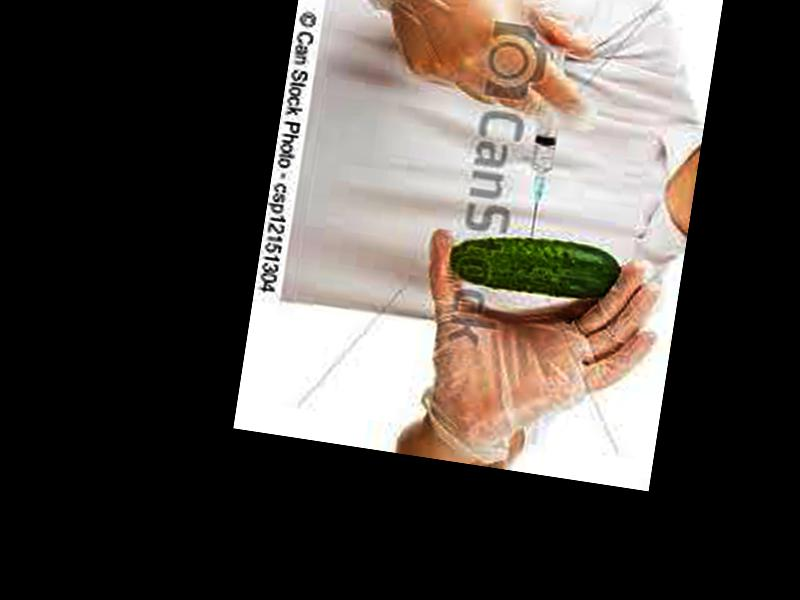Cucumber: (443, 226, 623, 308)
